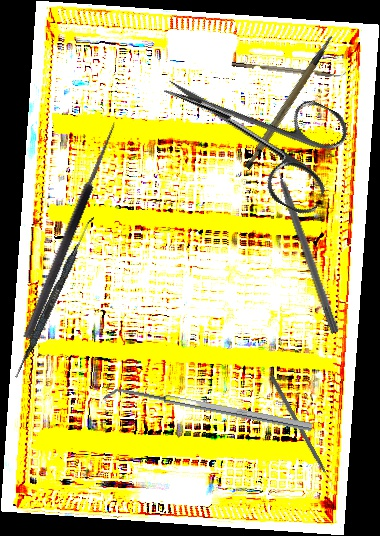Chopper: (231, 56, 347, 80)
Hook Surgical: (11, 115, 120, 341), (268, 375, 335, 489)
Iris Scissors: (142, 40, 358, 219)
Pusher: (268, 150, 342, 335)
Scalpel Handle: (228, 34, 353, 172)
Spatula Surgical: (13, 213, 95, 381), (103, 383, 313, 439)
